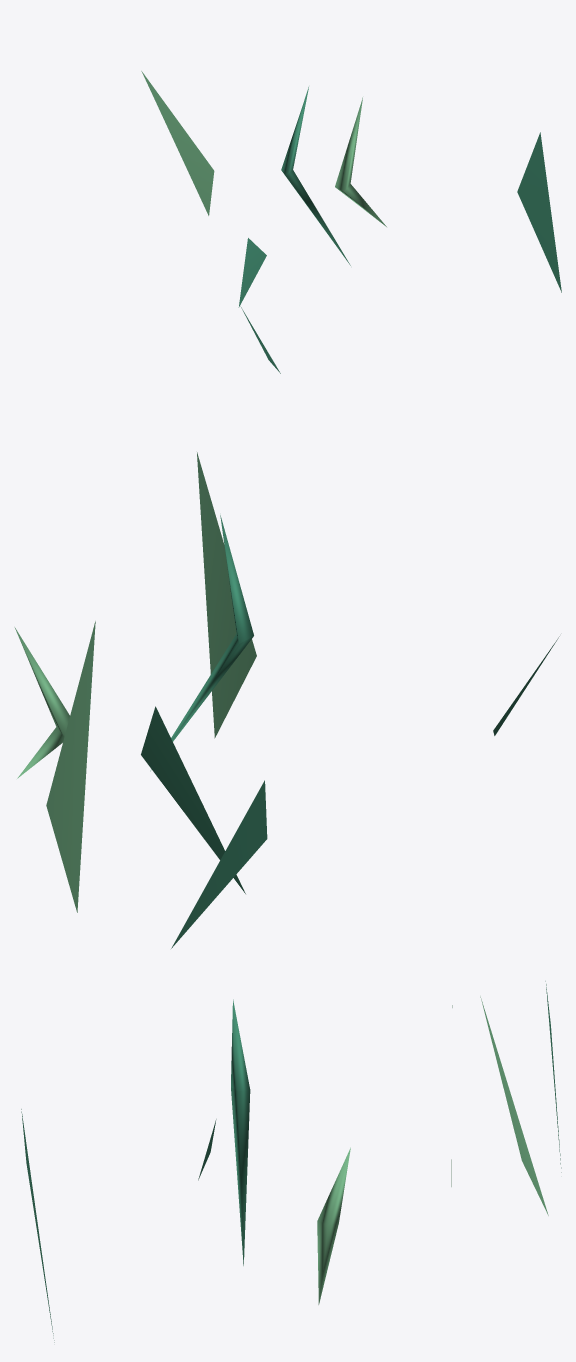
Rendered from grotto_gc_algae_a_lod2.glb.
3 views of the same model, one above another, from view 1: azimuth 30°, elevation 25°; view 2: azimuth 150°, elevation 25°; view 3: azimuth 270°, elevation 25° (orthographic). The views are drawn at different scales.
Parts seen in each view (by area): view 1: grotto_gc_algae_a.001; view 2: grotto_gc_algae_a.001; view 3: grotto_gc_algae_a.001.
Boxes of the visible parts, x1,y1,x2,y2 form: grotto_gc_algae_a.001: (141,71,561,373); grotto_gc_algae_a.001: (14,452,559,948); grotto_gc_algae_a.001: (21,981,561,1342).
Size of the model in its own units: 1.78 by 1.03 by 2.02.
